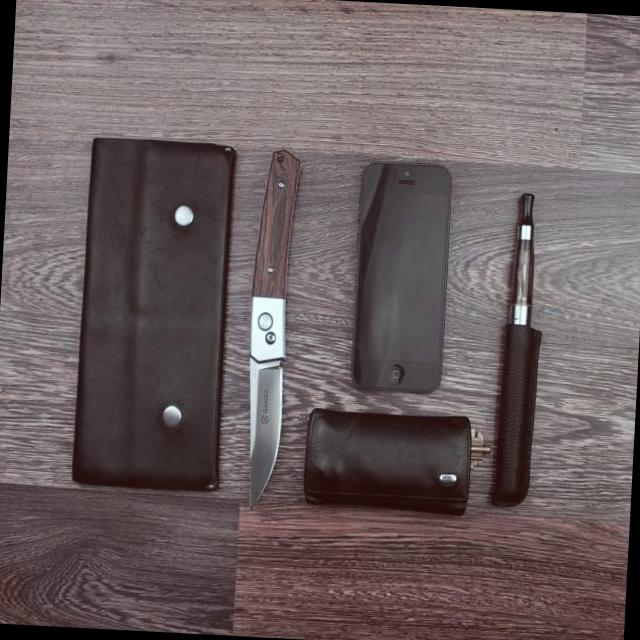Knife: (249, 150, 301, 510)
